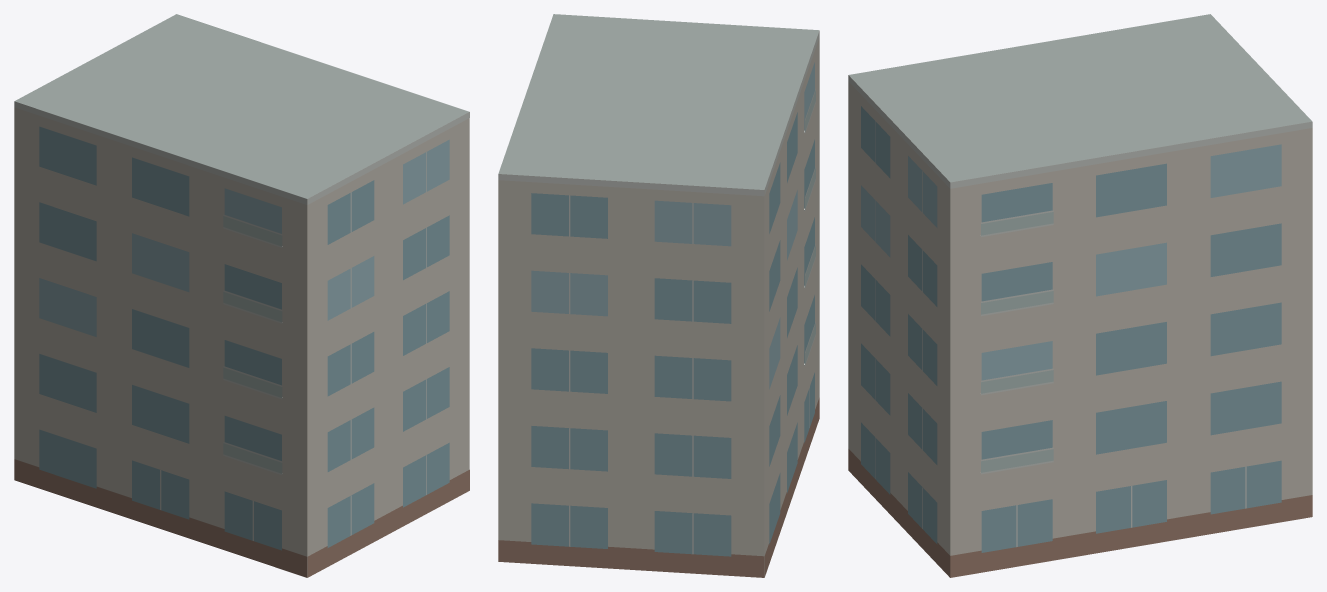
Rendered from survey-upis-32759335.glb.
3 views of the same model, side by side, from view 1: azimuth 30°, elevation 25°; view 2: azimuth 150°, elevation 25°; view 3: azimuth 270°, elevation 25° (orthographic). The views are drawn at different scales.
Visible parts, largest first — view 1: survey-upis-32759335.tmp; view 2: survey-upis-32759335.tmp; view 3: survey-upis-32759335.tmp.
Part boxes in pixels (left/top/right/bottom): survey-upis-32759335.tmp: left=14, top=14, right=469, bottom=577; survey-upis-32759335.tmp: left=498, top=14, right=819, bottom=577; survey-upis-32759335.tmp: left=848, top=14, right=1312, bottom=577.
Size of the model in its own units: 13.94 by 15.25 by 16.23.
